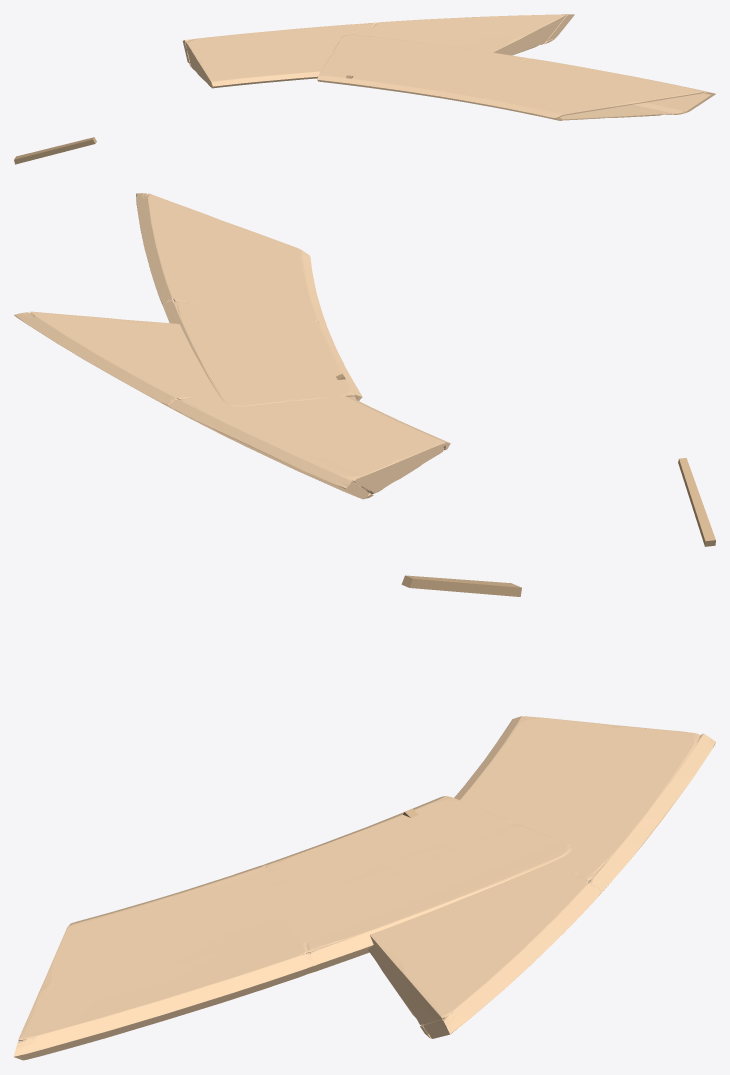
Rendered from 008-CourtyardSkyring.fbx.
3 views of the same model, one above another, from view 1: azimuth 30°, elevation 25°; view 2: azimuth 150°, elevation 25°; view 3: azimuth 270°, elevation 25° (orthographic). The views are drawn at different scales.
Visible parts, largest first — view 1: SkyRing_2, SkyRing_2_4, Filler_4; view 2: SkyRing_2, SkyRing_2_4, Filler_4; view 3: SkyRing_2, SkyRing_2_4, Filler_4.
Boxes of the visible parts, x1=… form: SkyRing_2: x1=317, y1=34, x2=715, y2=120; SkyRing_2_4: x1=182, y1=14, x2=574, y2=88; Filler_4: x1=14, y1=137, x2=96, y2=164; SkyRing_2: x1=136, y1=193, x2=362, y2=406; SkyRing_2_4: x1=14, y1=311, x2=450, y2=499; Filler_4: x1=678, y1=458, x2=715, y2=546; SkyRing_2: x1=14, y1=796, x2=572, y2=1060; SkyRing_2_4: x1=368, y1=716, x2=715, y2=1038; Filler_4: x1=401, y1=575, x2=521, y2=596.
Bounding box in the file's own units: 4914 × 276 × 2809.
